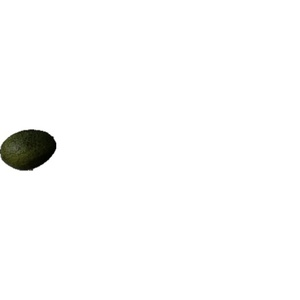abacate: (1, 127, 59, 171)
